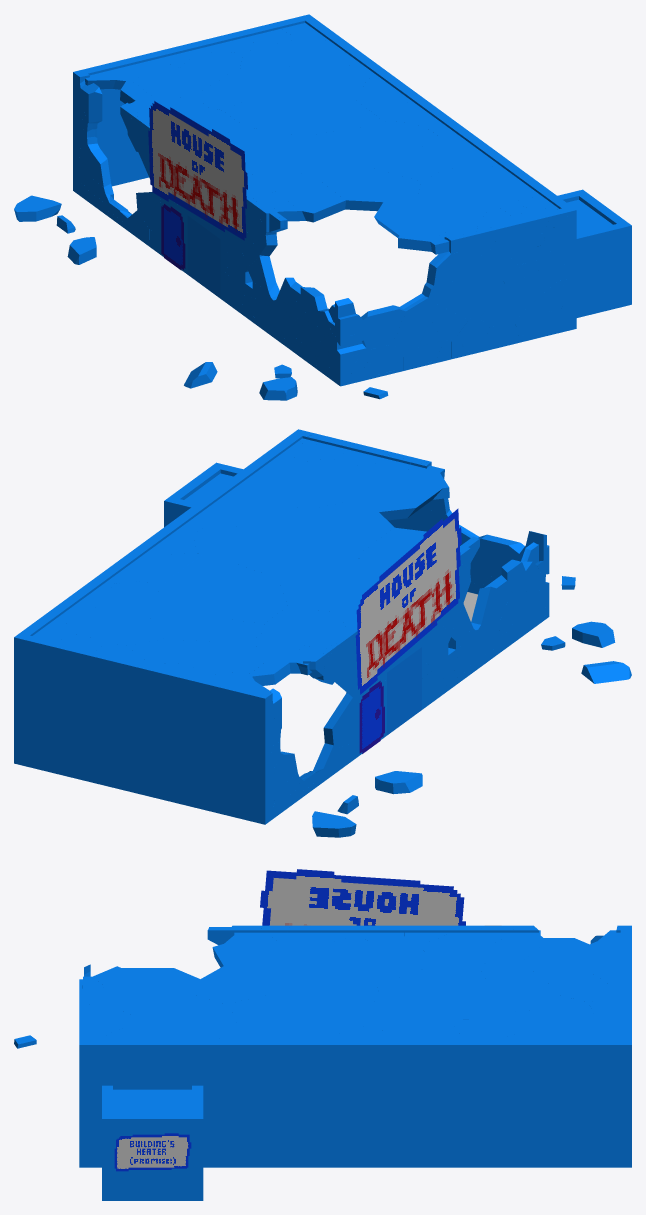
The model's file is house 2.fbx.
3 views of the same model, one above another, from view 1: azimuth 30°, elevation 25°; view 2: azimuth 150°, elevation 25°; view 3: azimuth 270°, elevation 25° (orthographic). The views are drawn at different scales.
Parts seen in each view (by area): view 1: set_roof_cell, set_sign_death, set_wall, set_shed_wall_1, set_wall_2, set_wall_suspicious_shootable, set_door_3, set_roof__1_; view 2: set_roof_cell, set_wall, set_sign_death, set_wall_2, set_wall_suspicious_shootable, set_door_3, set_shed_wall_break; view 3: set_wall_2, set_roof_cell, set_sign_death, set_shed_wall_break, set_wall, set_sign_lie, set_roof__1_, set_shed_wall, set_shed_wall_1, set_wall_5.
Part boxes in pixels (box(x1,y1,x2,y2)): set_roof_cell: box(14, 23, 576, 400); set_sign_death: box(148, 101, 247, 240); set_wall: box(73, 14, 314, 194); set_shed_wall_1: box(576, 221, 631, 317); set_wall_2: box(303, 15, 576, 330); set_wall_suspicious_shootable: box(187, 215, 220, 298); set_door_3: box(161, 204, 185, 270); set_roof__1_: box(567, 199, 612, 233); set_roof_cell: box(32, 429, 631, 837); set_wall: box(14, 633, 270, 824); set_sign_death: box(355, 508, 461, 694); set_wall_2: box(14, 432, 304, 765); set_wall_suspicious_shootable: box(387, 647, 421, 735); set_door_3: box(359, 681, 384, 753); set_shed_wall_break: box(170, 467, 220, 499); set_wall_2: box(80, 1040, 620, 1167); set_roof_cell: box(14, 925, 620, 1167); set_sign_death: box(260, 869, 465, 925); set_shed_wall_break: box(113, 1114, 191, 1200); set_wall: box(620, 925, 631, 1167); set_sign_lie: box(114, 1133, 191, 1171); set_roof__1_: box(113, 1089, 191, 1114); set_shed_wall: box(192, 1085, 203, 1200); set_shed_wall_1: box(102, 1085, 112, 1200); set_wall_5: box(311, 925, 409, 932).
Size of the model in its own units: 2235 by 894 by 2740.
